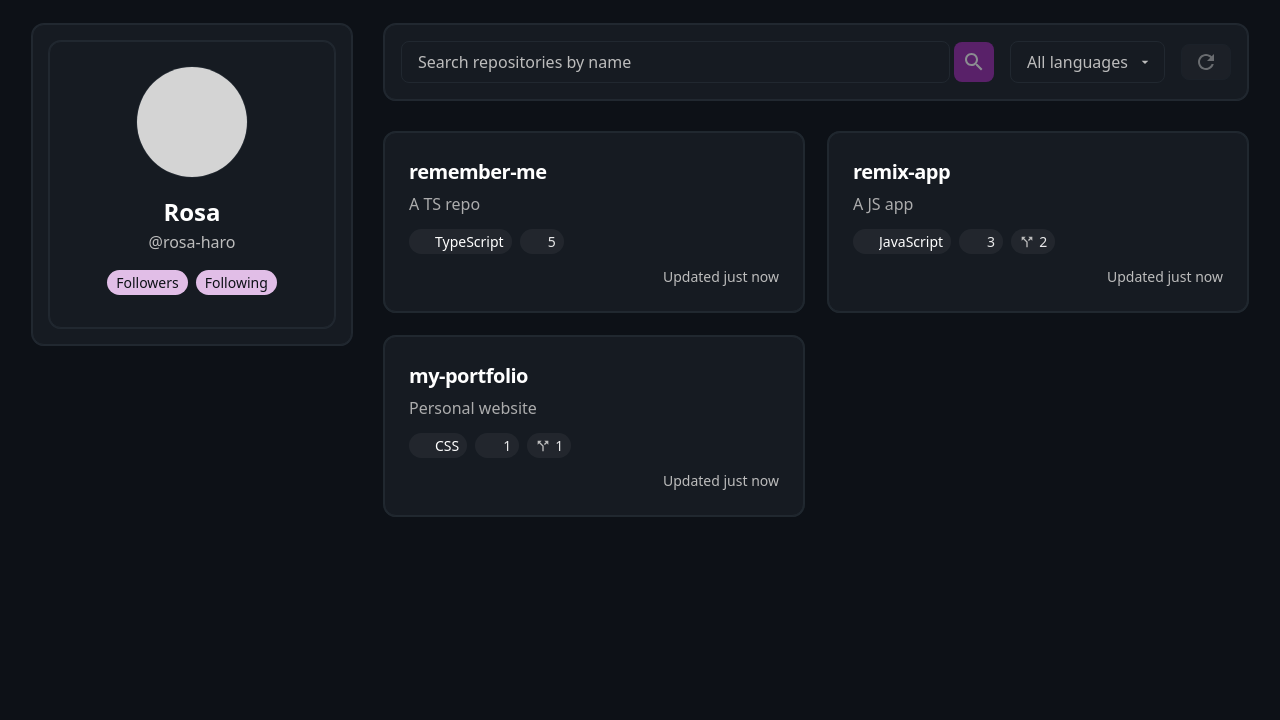
it: UserPage — repo filters › filters repositories by text on sumbit (e.g., 'rem')
Expected: the heading "remember-me" is shown, [409,158,547,185]
Expected: the heading "remix-app" is shown, [853,158,950,185]
Step 1. Type "rem" into the field named "repositories search" → (676, 62), box [401,41,950,83]
Then press Enter
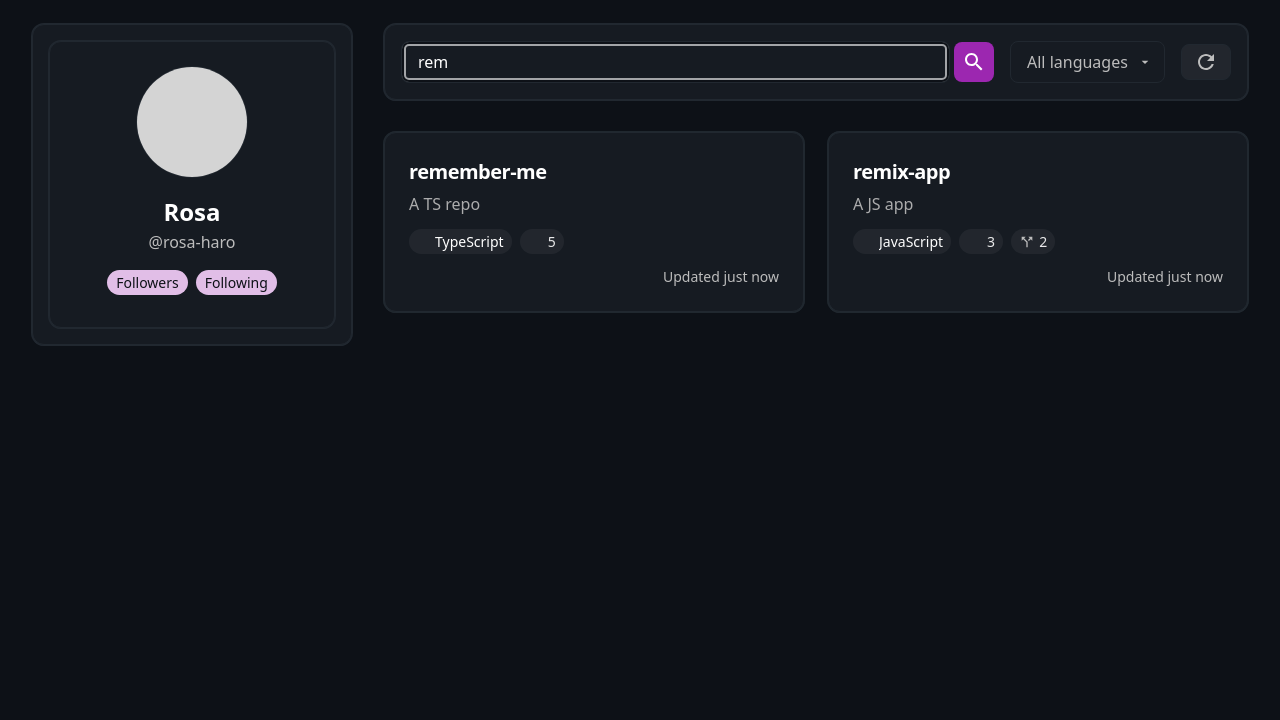
Expected: the heading "remember-me" is shown, [409,158,547,185]
Result: the heading "my-portfolio" is gone
